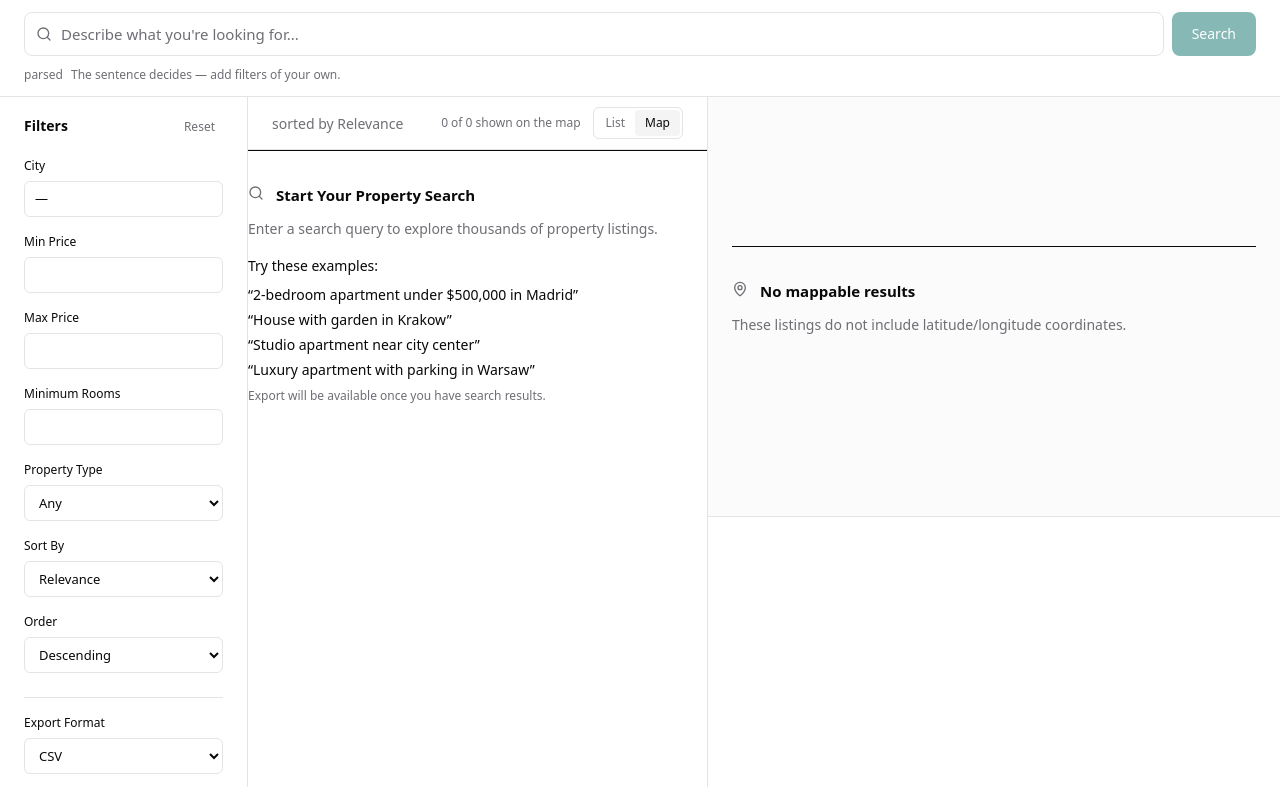
Test case: SearchPage › validates min and max price before searching
In the field named "Search query": [594, 34] box top-left (24, 12), bottom-right (1164, 56), type "Test"
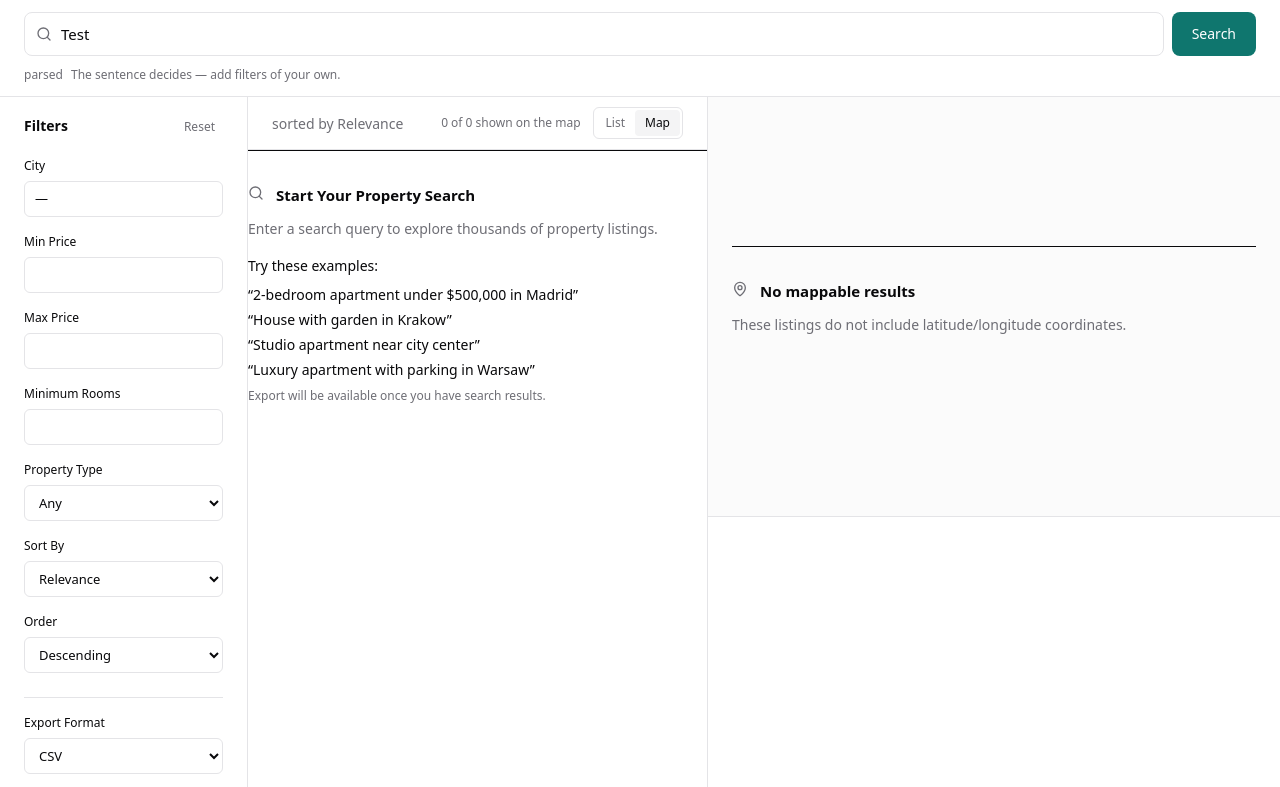
In the number field labelled "Min Price": [124, 275] box top-left (24, 257), bottom-right (223, 293), type "300"
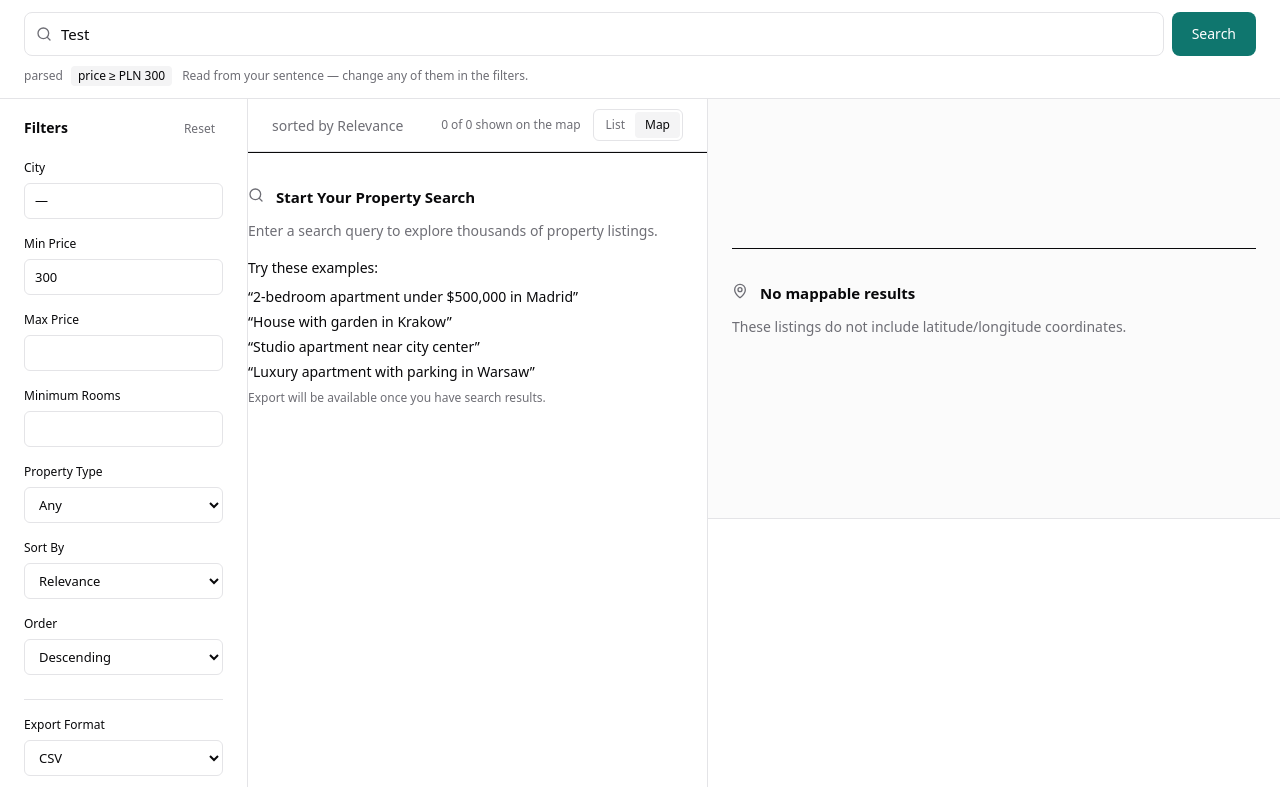
In the number field labelled "Max Price": [124, 353] box top-left (24, 335), bottom-right (223, 371), type "200"
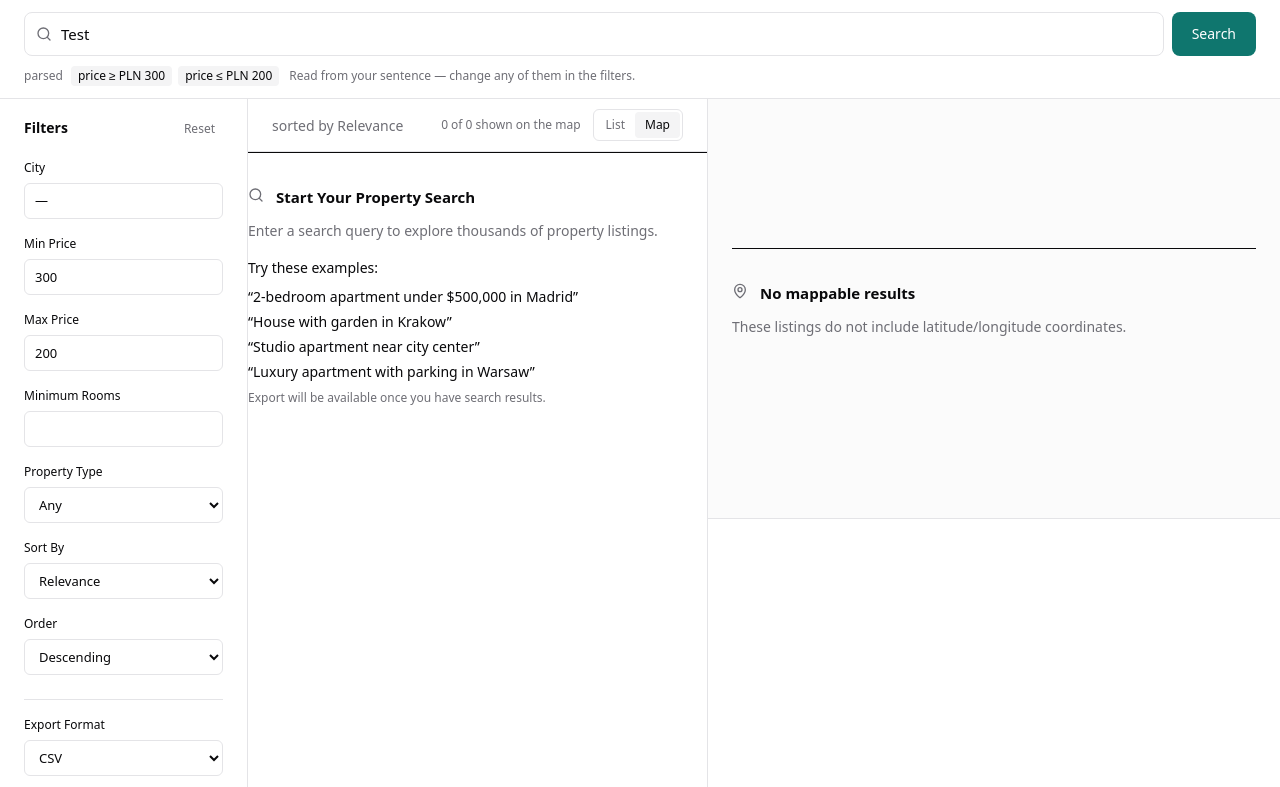
Click the button "Search": [1214, 34] box top-left (1172, 12), bottom-right (1256, 56)
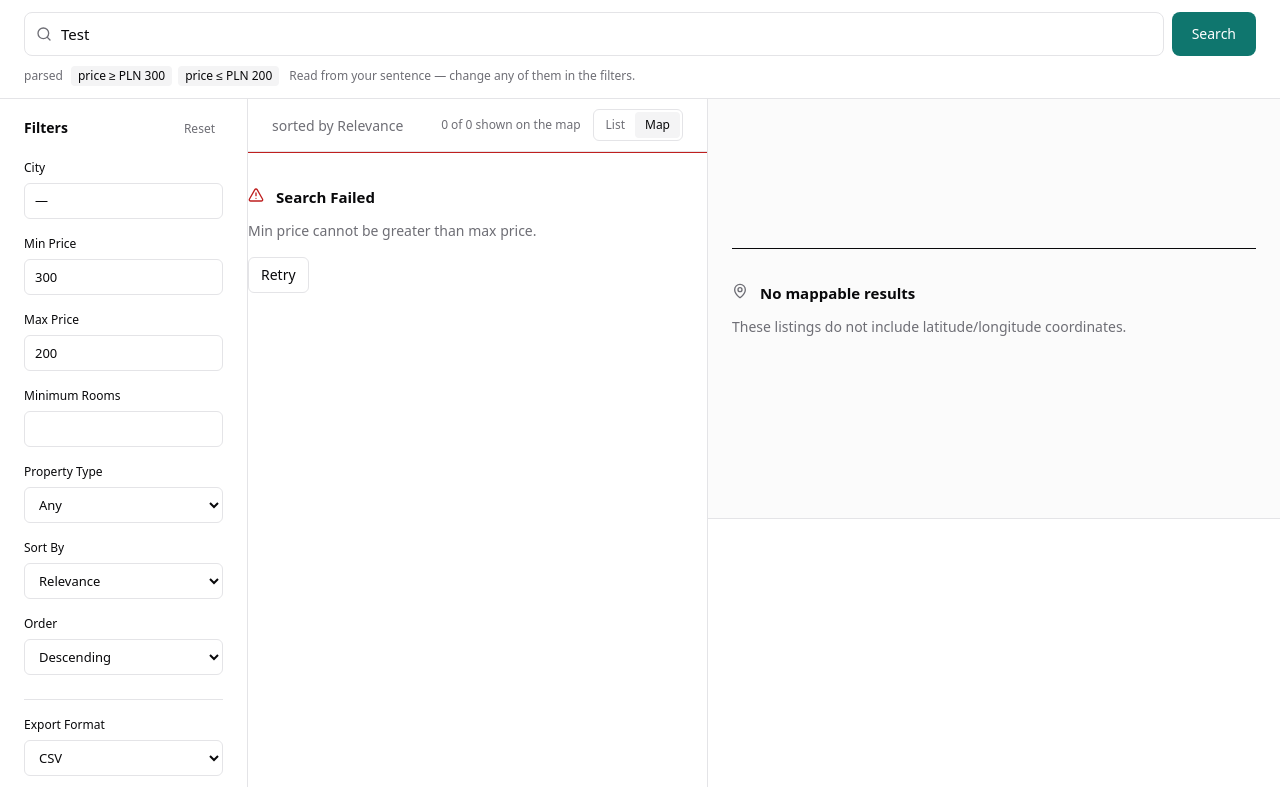
Check: the text "Min price cannot be greater than max price." is shown, box top-left (248, 221), bottom-right (536, 241)
